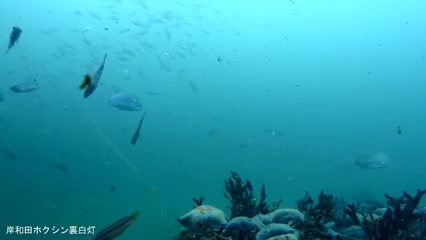bera: (94, 205, 143, 240)
smallfish: (10, 75, 48, 97)
